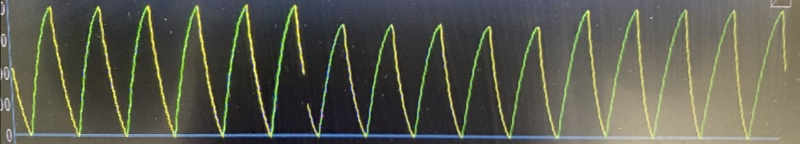normal_volume: (18, 1, 759, 143)
